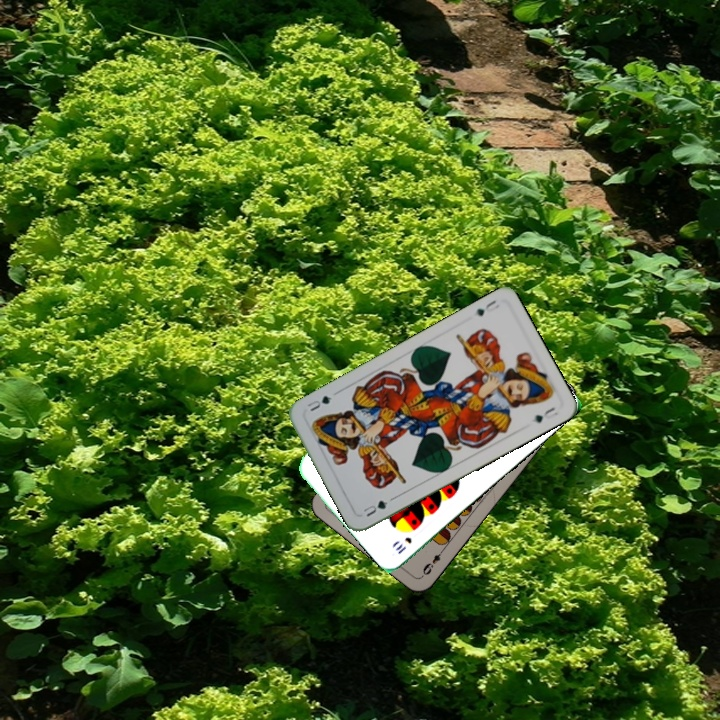E9: (418, 544, 447, 579)
GU: (358, 496, 390, 520), (471, 296, 502, 319)
S10: (391, 533, 414, 556)
